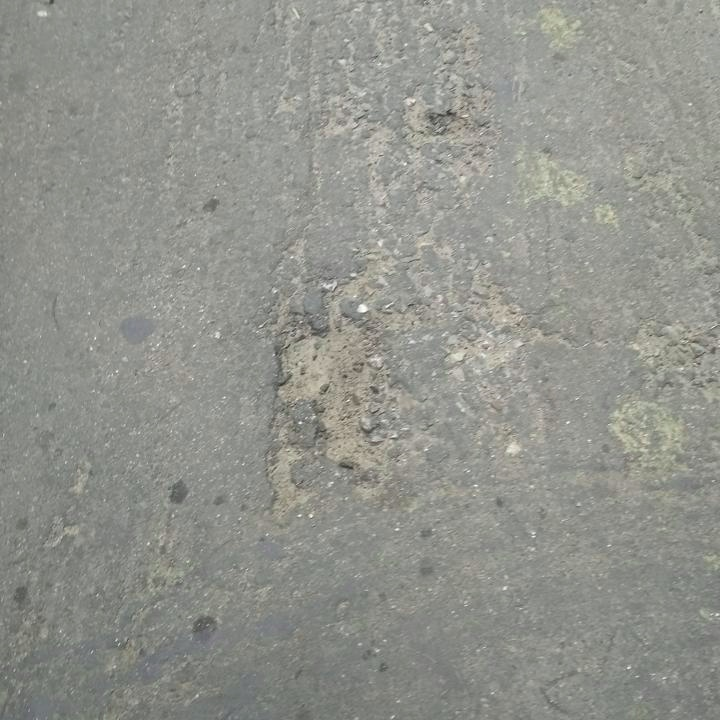pothole: (260, 308, 414, 503), (423, 106, 484, 141)
